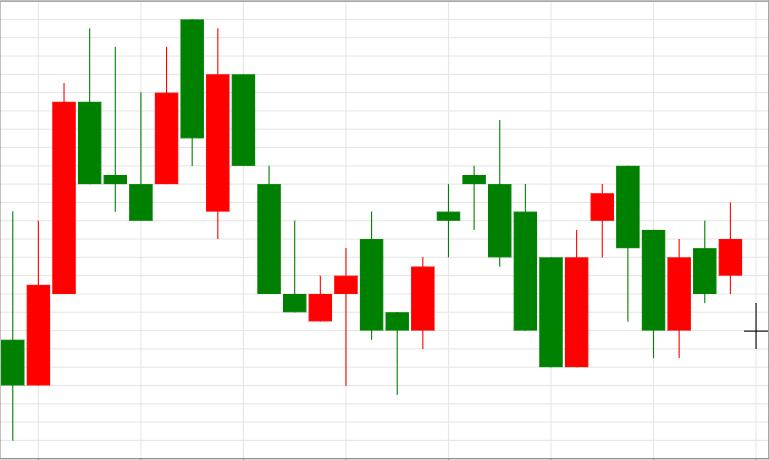bullish_engulfing_rise: (462, 119, 588, 368)
